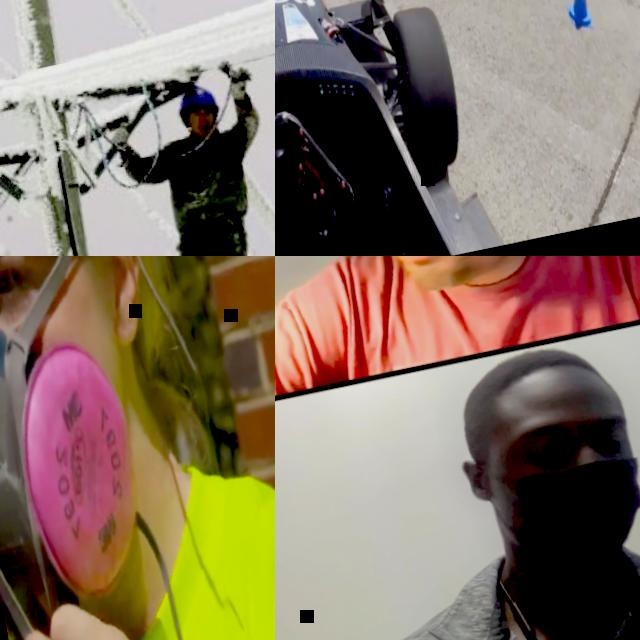Hardhat: (172, 82, 224, 124)
Mask: (0, 261, 165, 640)
NO-Hardhat: (452, 334, 625, 431)
NO-Mask: (483, 449, 640, 587), (381, 256, 529, 303), (190, 121, 218, 144)
NO-Safety Vest: (0, 443, 275, 640), (313, 256, 640, 380), (355, 548, 640, 640), (159, 132, 253, 239)
Person: (280, 305, 640, 640), (0, 256, 275, 640), (275, 256, 640, 408), (95, 69, 275, 256)
Safety Cone: (559, 0, 599, 42)
vehicle: (275, 0, 521, 256)
